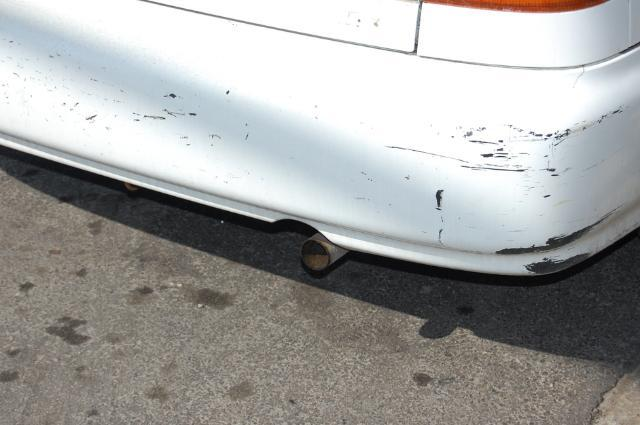Bumper: (7, 0, 640, 296)
